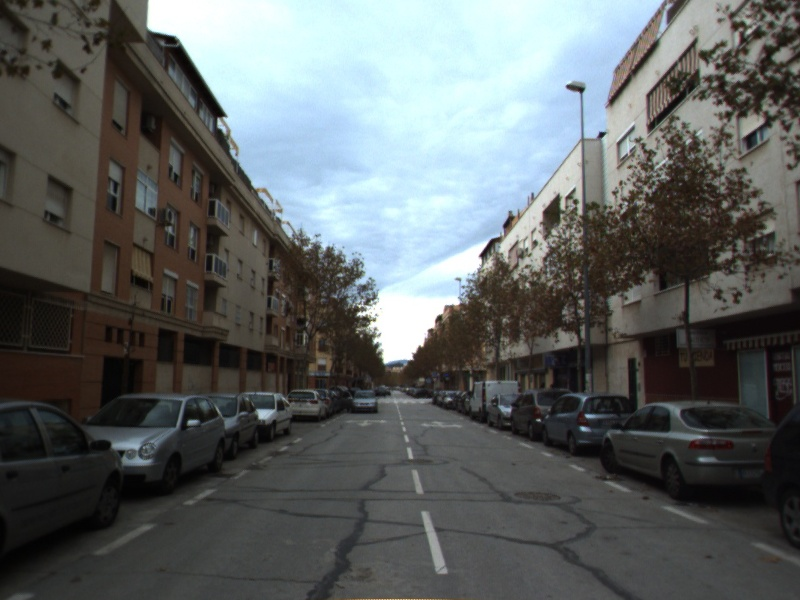STRAIGHT_LEFT_RIGHT: (419, 418, 464, 430)
